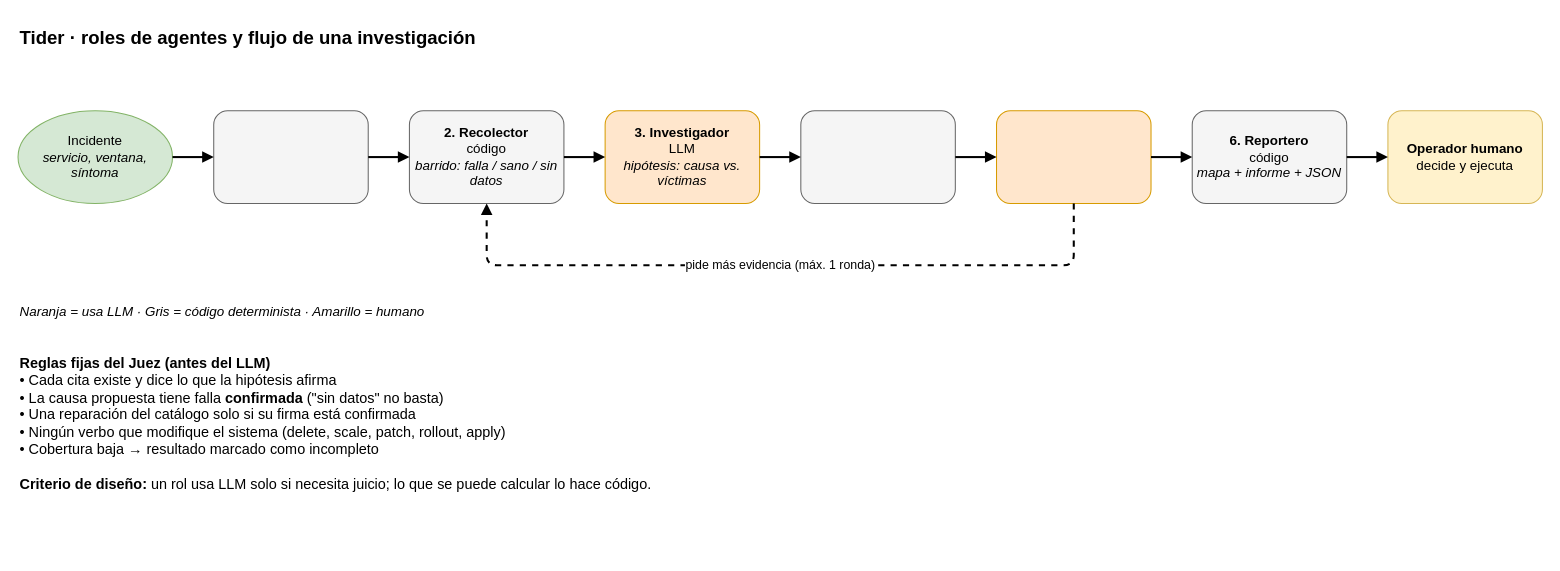
The diagram is 1560 pixels wide and 571 high, and some of its shapes have lost their labels. The centre of each missing label's shape, as x and y in pixels:
"1. Cartógrafo código mapa previo desde el Lake" belongs at point 290,156.
"4. Proponente catálogo → LLM reparación verificada o no verificada" belongs at point 877,156.
"5. Juez LLM de otra familia + reglas aprueba / rechaza / otra ronda" belongs at point 1073,156.
